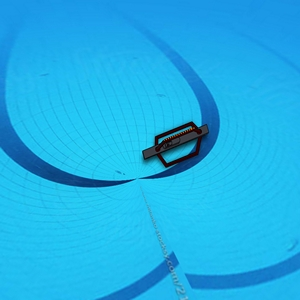submarine: (144, 121, 208, 166)
